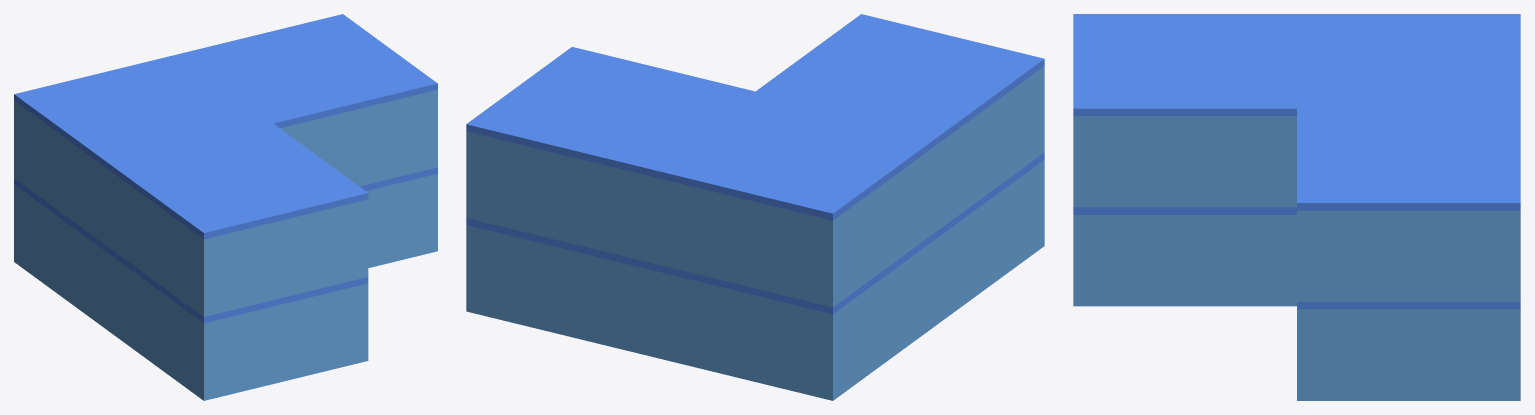
The model's file is building_L_6_f.glb.
3 renders of one model, left to right at view 1: azimuth 30°, elevation 25°; view 2: azimuth 150°, elevation 25°; view 3: azimuth 270°, elevation 25°, orthographic. The views are drawn at different scales.
Parts seen in each view (by area): view 1: Cube.001; view 2: Cube.001; view 3: Cube.001.
Boxes of the visible parts, x1,y1,x2,y2 form: Cube.001: (14, 14, 437, 400); Cube.001: (466, 14, 1044, 400); Cube.001: (1073, 14, 1520, 400).
Bounding box in the file's own units: 3.28 × 1.6 × 3.28.
